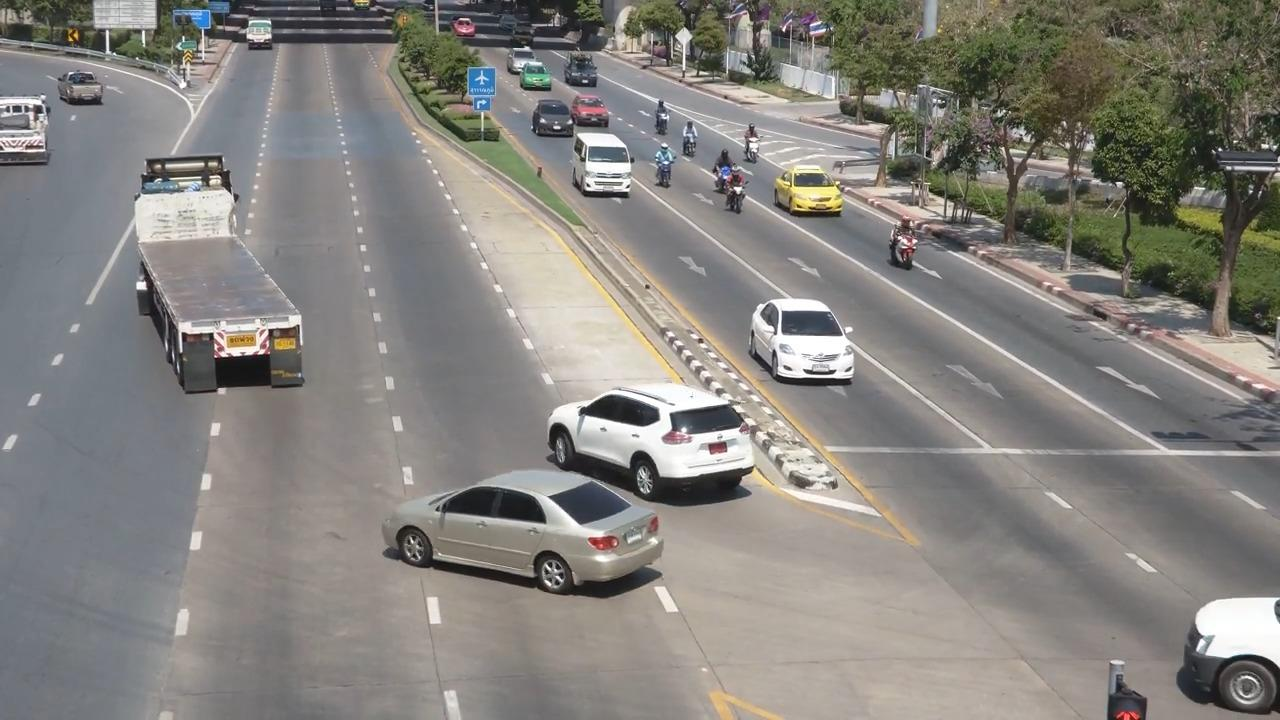CAR: (383, 463, 682, 611), (550, 372, 778, 505), (738, 277, 866, 394), (568, 125, 646, 209), (773, 161, 860, 232), (1, 94, 57, 175), (59, 67, 112, 112), (238, 8, 282, 60), (526, 98, 575, 137), (560, 50, 601, 91), (518, 60, 560, 94), (571, 97, 618, 126)
HGV_BUS: (117, 143, 320, 408)
MOTOR: (881, 217, 925, 275), (737, 118, 772, 168), (644, 91, 671, 139), (721, 168, 750, 210), (675, 114, 700, 158), (655, 143, 678, 188)
